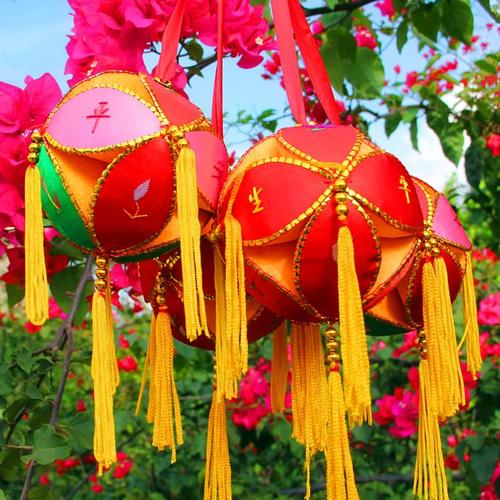xiuqiu: (217, 125, 423, 328)
